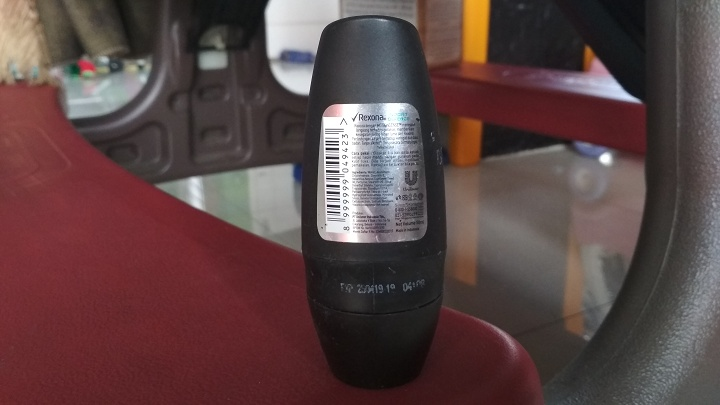rexona: (292, 17, 456, 390), (292, 17, 446, 390)
